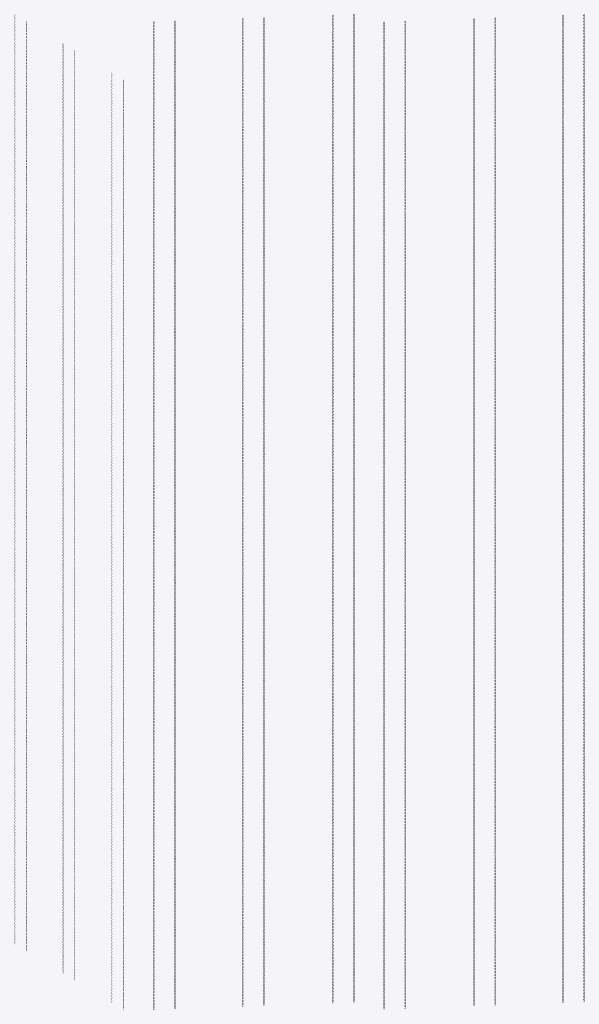
File: chain-texture-only.fbx
3 views of the same model, side by side, from view 1: azimuth 90°, elevation 25°; view 2: azimuth 150°, elevation 25°; view 3: azimuth 330°, elevation 25° (orthographic). The views are drawn at different scales.
Visible parts, largest first — view 1: chain-texture !!!!!!!!!; view 2: chain-texture !!!!!!!!!; view 3: chain-texture !!!!!!!!!.
Part boxes in pixels (left/top/right/bottom): chain-texture !!!!!!!!!: left=14, top=14, right=123, bottom=1009; chain-texture !!!!!!!!!: left=153, top=14, right=354, bottom=1009; chain-texture !!!!!!!!!: left=383, top=14, right=584, bottom=1009.
Bounding box in the file's own units: 471 × 3086 × 332.
Materials: 1 (1 with a texture image).
